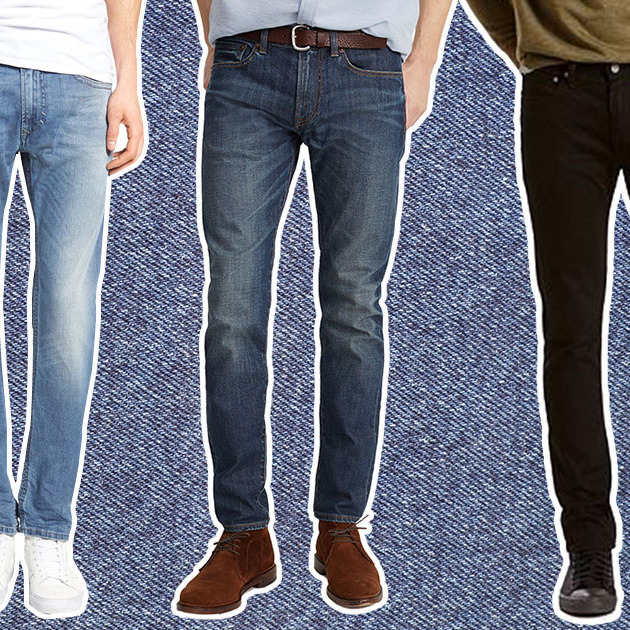Jeans: (186, 28, 408, 536)
